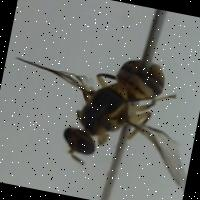Oriental-fruit-fly: (0, 26, 200, 200)
